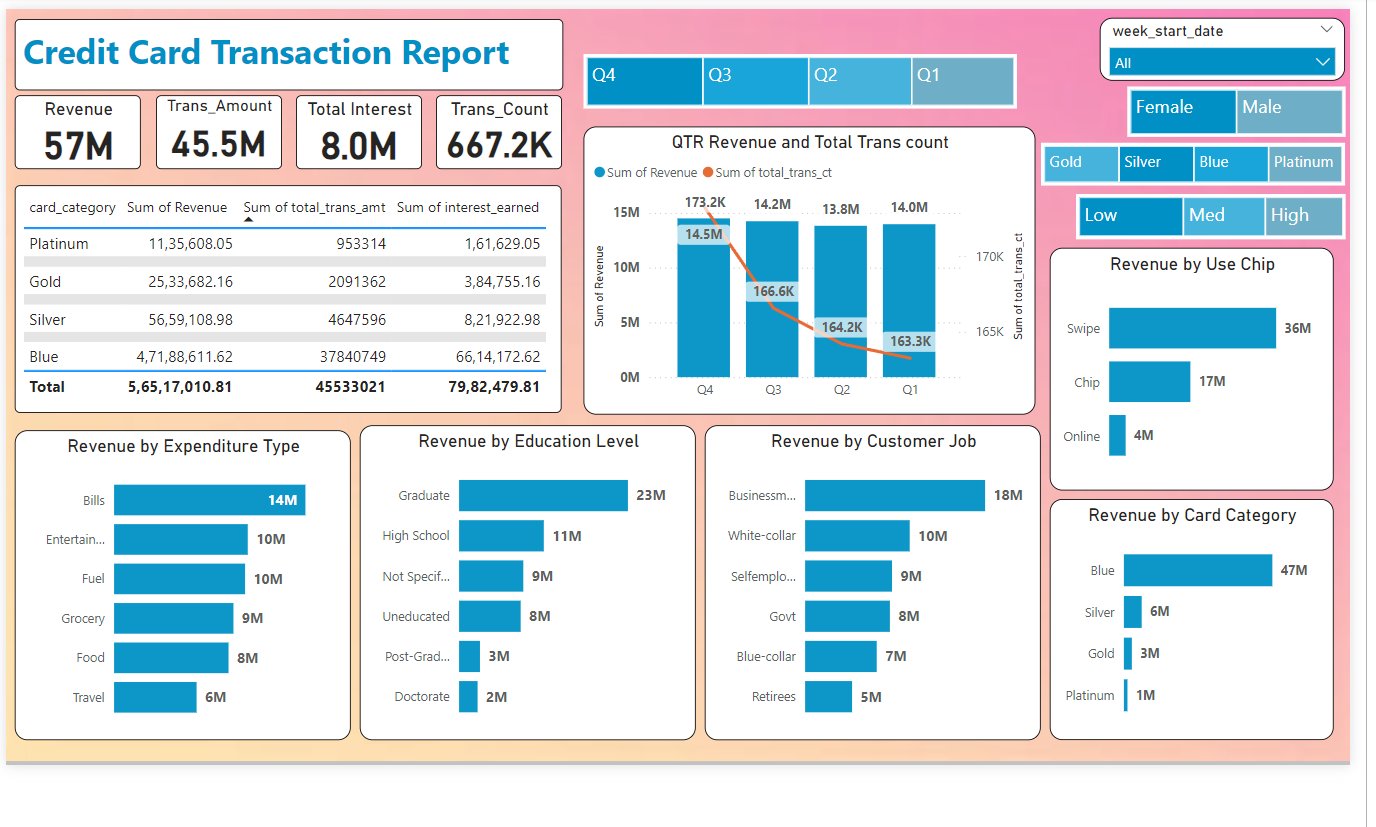

This screenshot's page, from the dashboard's own definition file:
{"tool":"powerbi","page":{"name":"Cc Transaction ","canvas":[1280,720],"ordinal":0},"visuals":[{"type":"textbox","box":[7.9,8.9,522.1,67.9],"z":0},{"type":"lineStackedColumnComboChart","title":"QTR Revenue and Total Trans count","fields":{"Category":["public cc_detail.qtr"],"Y":["Sum(public cc_detail.Revenue)"],"Y2":["Sum(public cc_detail.total_trans_ct)"]},"box":[550.6,111.8,430.6,274.1],"z":1000},{"type":"barChart","title":"Revenue by Expenditure Type","fields":{"Y":["Sum(public cc_detail.Revenue)"],"Category":["public cc_detail.exp_type"]},"box":[8.3,401.2,320,295.2],"z":2000},{"type":"barChart","title":"Revenue by Education Level","fields":{"Y":["Sum(public cc_detail.Revenue)"],"Category":["public cust_detail.education_level"]},"box":[336.9,396.4,320,300],"z":3000},{"type":"barChart","title":"Revenue by Customer Job","fields":{"Y":["Sum(public cc_detail.Revenue)"],"Category":["public cust_detail.customer_job"]},"box":[665.5,396.4,320.2,300],"z":4000},{"type":"barChart","title":"Revenue by Card Category","fields":{"Y":["Sum(public cc_detail.Revenue)"],"Category":["public cc_detail.card_category"]},"box":[994,466.7,270.2,229.8],"z":5000},{"type":"barChart","title":"Revenue by Use Chip","fields":{"Y":["Sum(public cc_detail.Revenue)"],"Category":["public cc_detail.use_chip"]},"box":[994,227.4,270.2,231],"z":6000},{"type":"tableEx","fields":{"Values":["public cc_detail.card_category","Sum(public cc_detail.Revenue)","Sum(public cc_detail.total_trans_amt)","Sum(public cc_detail.interest_earned)"]},"box":[8.2,168.2,521.2,216.5],"z":7000},{"type":"card","title":"Revenue","fields":{"Values":["Sum(public cc_detail.Revenue)"]},"box":[7.8,82.2,120,70],"z":8000},{"type":"card","title":"Trans_Amount ","fields":{"Values":["Sum(public cc_detail.total_trans_amt)"]},"box":[143.3,82.2,120,70],"z":9000},{"type":"card","title":"Trans_Count","fields":{"Values":["Sum(public cc_detail.total_trans_ct)"]},"box":[410,82.2,120,70],"z":10000},{"type":"card","title":"Total Interest","fields":{"Values":["Sum(public cc_detail.interest_earned)"]},"box":[276.7,82.2,120,70],"z":11000},{"type":"slicer","fields":{"Values":["public cc_detail.week_start_date"]},"box":[1042.1,8.3,233.8,60],"z":12000},{"type":"treemap","fields":{"Group":["public cc_detail.qtr"],"Values":["Avg(public cc_detail.client_num)"]},"box":[550.6,42.4,412.9,51.8],"z":13000},{"type":"treemap","fields":{"Values":["Avg(public cc_detail.client_num)"],"Group":["public cust_detail.gender"]},"box":[1067.9,73.3,207.9,47.9],"z":14000},{"type":"treemap","fields":{"Group":["public cc_detail.card_category"],"Values":["Avg(public cc_detail.client_num)"]},"box":[986.2,127.9,289.6,40.4],"z":15000},{"type":"treemap","fields":{"Group":["public cust_detail.IncomeGroup"],"Values":["CountNonNull(public cc_detail.client_num)"]},"box":[1018.8,175.8,257.1,42.9],"z":16000}]}

Visuals, with their boxes in screenshot pixels (x1, y1, x2, y2):
textbox: <box>5,9,558,81</box>
"QTR Revenue and Total Trans count" lineStackedColumnComboChart: <box>580,119,1037,409</box>
"Revenue by Expenditure Type" barChart: <box>5,425,344,738</box>
"Revenue by Education Level" barChart: <box>354,420,693,738</box>
"Revenue by Customer Job" barChart: <box>702,420,1041,738</box>
"Revenue by Card Category" barChart: <box>1050,495,1337,738</box>
"Revenue by Use Chip" barChart: <box>1050,241,1337,486</box>
tableEx - public cc_detail.card_category x Sum(public cc_detail.Revenue): <box>5,178,558,408</box>
"Revenue" card: <box>5,87,132,161</box>
"Trans_Amount " card: <box>148,87,276,161</box>
"Trans_Count" card: <box>431,87,558,161</box>
"Total Interest" card: <box>290,87,417,161</box>
slicer - public cc_detail.week_start_date: <box>1101,9,1349,72</box>
treemap - public cc_detail.qtr x Avg(public cc_detail.client_num): <box>580,45,1018,100</box>
treemap - Avg(public cc_detail.client_num) x public cust_detail.gender: <box>1129,78,1349,128</box>
treemap - public cc_detail.card_category x Avg(public cc_detail.client_num): <box>1042,136,1349,178</box>
treemap - public cust_detail.IncomeGroup x CountNonNull(public cc_detail.client_num): <box>1076,186,1349,232</box>
